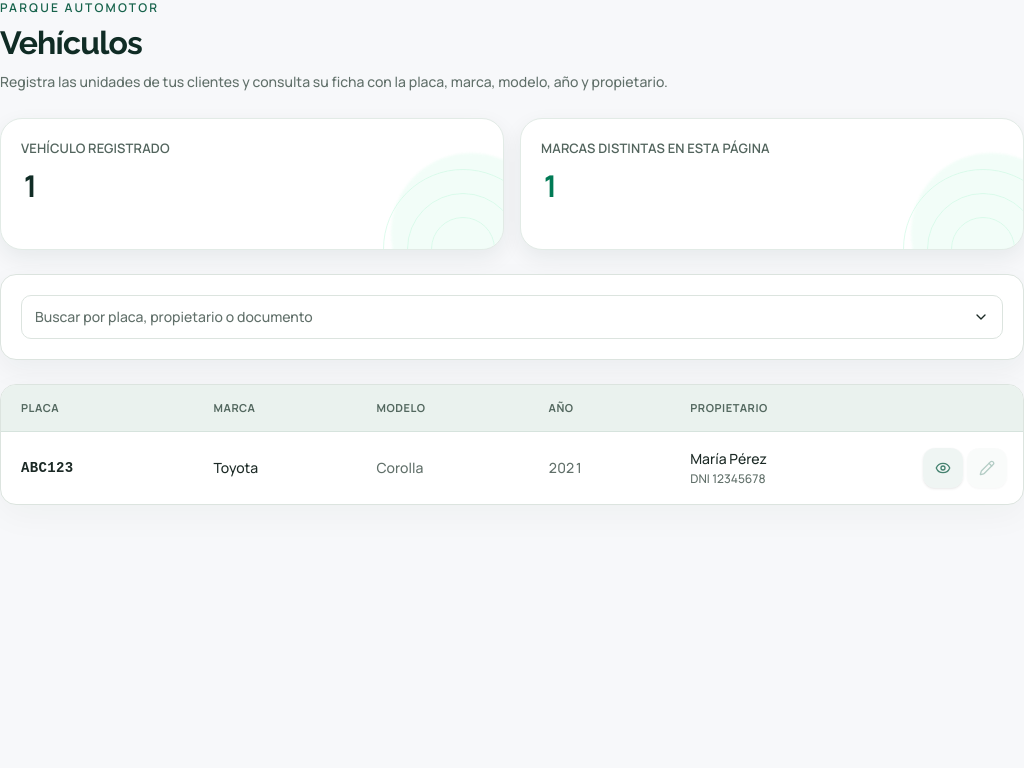
Página de vehículos › lista vehículos y abre su ficha en un diálogo
Expected: the button "María Pérez" is shown, [690,449,767,469]
Expected: the text "DNI 12345678" is shown, [690,470,766,487]
Click the button "ABC123" at (47, 468), box [21,458,74,478]
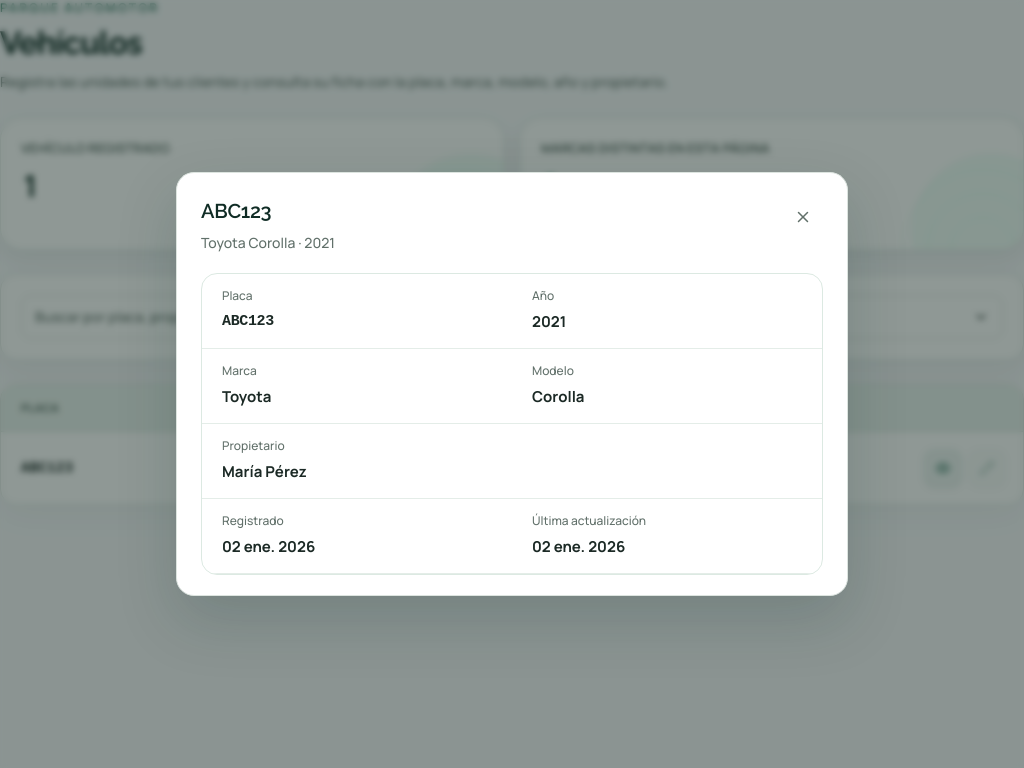
Now the dialog "ABC123" is shown, box [176,172,848,596]
